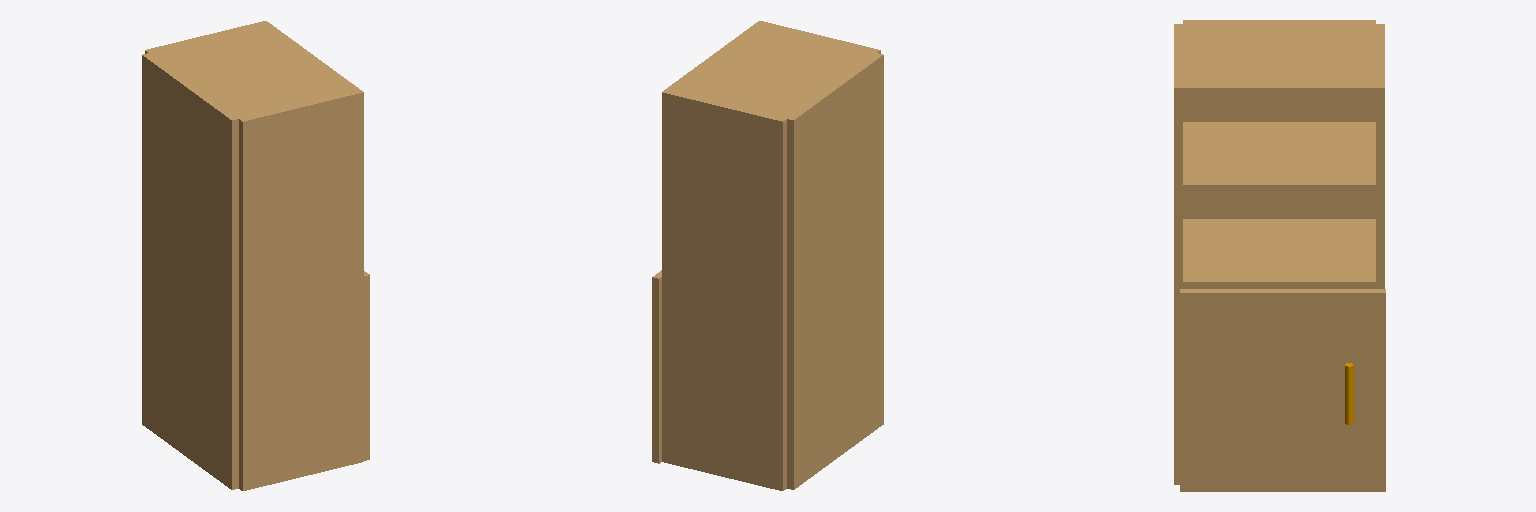
The robot description file, URDF, robot "cabinet_shelf":
<robot name="cabinet_shelf">

  <material name="Wood">
    <color rgba="0.827 0.675 0.463 1.0"/>
  </material>
  <material name="LightWood">
    <color rgba="0.992, 0.871, 0.682, 1.0"/>
  </material>
  <material name="Metal">
    <color rgba="0.718, 0.753, 0.749, 1.0"/>
  </material>

  <link name="cabinet_bottom_plate">
    <inertial>
      <mass value="20.0" />
      <origin xyz="0 0 -1.0" /> 
      <inertia  ixx="2" ixy="0.0"  ixz="0.0"  iyy="2"  iyz="0.0"  izz="2" />
    </inertial>
    <visual>
      <origin xyz="0 0 0.01" rpy="0 0 0" />
      <geometry>
        <box size="0.35 0.45 0.02"/>
      </geometry>
      <material name="Wood"/>
    </visual>
    <collision>
      <origin xyz="0 0 0.01" rpy="0 0 0" />
      <geometry>
        <box size="0.35 0.45 0.02"/>
      </geometry>
    </collision>
  </link>

  <link name="cabinet_middle_plate1">
    <inertial>
      <mass value="1.0" />
      <origin xyz="0 0 0.0" />
      <inertia  ixx="0.01" ixy="0.0"  ixz="0.0"  iyy="0.01"  iyz="0.0"  izz="0.01" />
    </inertial>
    <visual>
      <origin xyz="0 0 0.76" rpy="0 0 0" />
      <geometry>
        <box size="0.35 0.45 0.02"/>
      </geometry>
      <material name="Wood"/>
    </visual>
    <collision>
      <origin xyz="0 0 0.76" rpy="0 0 0" />
      <geometry>
        <box size="0.35 0.45 0.02"/>
      </geometry>
    </collision>
  </link>
  <link name="cabinet_middle_plate2">
    <inertial>
      <mass value="1.0" />
      <origin xyz="0 0 0.0" /> 
      <inertia  ixx="0.01" ixy="0.0"  ixz="0.0"  iyy="0.01"  iyz="0.0"  izz="0.01" />
    </inertial>
    <visual>
      <origin xyz="0 0 0.51" rpy="0 0 0" />
      <geometry>
        <box size="0.35 0.45 0.02"/>
      </geometry>
      <material name="Wood"/>
    </visual>
    <collision>
      <origin xyz="0 0 0.51" rpy="0 0 0" />
      <geometry>
        <box size="0.35 0.45 0.02"/>
      </geometry>
    </collision>
  </link>
  <link name="cabinet_top_plate">
    <inertial>
      <mass value="1.0" />
      <origin xyz="0 0 0.0" /> 
      <inertia  ixx="0.01" ixy="0.0"  ixz="0.0"  iyy="0.01"  iyz="0.0"  izz="0.01" />
    </inertial>
    <visual>
      <origin xyz="0 0 1.01" rpy="0 0 0" />
      <geometry>
        <box size="0.35 0.45 0.02"/>
      </geometry>
      <material name="Wood"/>
    </visual>
    <collision>
      <origin xyz="0 0 1.01" rpy="0 0 0" />
      <geometry>
        <box size="0.35 0.45 0.02"/>
      </geometry>
    </collision>
  </link>
  <link name="cabinet_left_plate">
    <inertial>
      <mass value="1.0" />
      <origin xyz="0 0 0.0" /> 
      <inertia  ixx="0.01" ixy="0.0"  ixz="0.0"  iyy="0.01"  iyz="0.0"  izz="0.01" />
    </inertial>
    <visual>
      <origin xyz="0 -0.235 0.51" rpy="0 0 0" />
      <geometry>
        <box size="0.35 0.02 1.02"/>
      </geometry>
      <material name="Wood"/>
    </visual>
    <collision>
      <origin xyz="0 -0.235 0.51" rpy="0 0 0" />
      <geometry>
        <box size="0.35 0.02 1.02"/>
      </geometry>
    </collision>
  </link>
  <link name="cabinet_right_plate">
    <inertial>
      <mass value="1.0" />
      <origin xyz="0 0 0.0" /> 
      <inertia  ixx="0.01" ixy="0.0"  ixz="0.0"  iyy="0.01"  iyz="0.0"  izz="0.01" />
    </inertial>
    <visual>
      <origin xyz="0 0.235 0.51" rpy="0 0 0" />
      <geometry>
        <box size="0.35 0.02 1.02"/>
      </geometry>
      <material name="Wood"/>
    </visual>
    <collision>
      <origin xyz="0 0.235 0.51" rpy="0 0 0" />
      <geometry>
        <box size="0.35 0.02 1.02"/>
      </geometry>
    </collision>
  </link>
  <link name="cabinet_back_plate">
    <inertial>
      <mass value="1.0" />
      <origin xyz="0 0 -5" /> 
      <inertia  ixx="0.01" ixy="0.0"  ixz="0.0"  iyy="0.01"  iyz="0.0"  izz="0.01" />
    </inertial>
    <visual>
      <origin xyz="-0.185 0 0.51" rpy="0 0 0" />
      <geometry>
        <box size="0.02 0.45 1.02"/>
      </geometry>
      <material name="Wood"/>
    </visual>
    <collision>
      <origin xyz="-0.21 0 0.51" rpy="0 0 0" />
      <geometry>
        <box size="0.02 0.45 1.02"/>
      </geometry>
    </collision>
  </link>

  <link name="cabinet_door_plate">
    <inertial>
      <mass value="1.0" />
      <origin xyz="0 0 0.0" />
      <inertia  ixx="0.01" ixy="0.0"  ixz="0.0"  iyy="0.01"  iyz="0.0"  izz="0.01" />
    </inertial>
    <visual>
      <origin xyz="0.01 0.245 0.25" rpy="0 0 0" />
      <geometry>
        <box size="0.02 0.48 0.51"/>
      </geometry>
      <material name="Wood"/>
    </visual>
    <collision>
      <origin xyz="0.235 0 0.26" rpy="0 0 0" />
      <geometry>
        <box size="0.02 0.49 0.51"/>
      </geometry>
    </collision>
  </link>
  <link name="cabinet_door_handle">
    <inertial>
      <mass value="0.1" />
      <origin xyz="0 0 0.0" />
      <inertia  ixx="0.01" ixy="0.0"  ixz="0.0"  iyy="0.01"  iyz="0.0"  izz="0.01" />
    </inertial>
    <visual>
      <origin xyz="0.03 0.4 0.25" rpy="0 0 0" />
      <geometry>
        <cylinder radius="0.01" length="0.15"/>
      </geometry>
      <material name="Metal"/>
    </visual>
    <collision>
      <origin xyz="0.03 0.4 0.25" rpy="0 0 0" />
      <geometry>
        <cylinder radius="0.01" length="0.15"/>
      </geometry>
    </collision>
  </link>


  <joint name="middle_plate1" type="fixed">
    <parent link="cabinet_bottom_plate"/>
    <child link="cabinet_middle_plate1"/>
    <origin xyz="0 0 0"/>
  </joint>
  <joint name="middle_plate2" type="fixed">
    <parent link="cabinet_bottom_plate"/>
    <child link="cabinet_middle_plate2"/>
    <origin xyz="0 0 0"/>
  </joint>

  <joint name="top_plate" type="fixed">
    <parent link="cabinet_bottom_plate"/>
    <child link="cabinet_top_plate"/>
    <origin xyz="0 0 0"/>
  </joint>
  <joint name="left_plate" type="fixed">
    <parent link="cabinet_bottom_plate"/>
    <child link="cabinet_left_plate"/>
    <origin xyz="0 0 0"/>
  </joint>
  <joint name="right_plate" type="fixed">
    <parent link="cabinet_bottom_plate"/>
    <child link="cabinet_right_plate"/>
    <origin xyz="0 0 0"/>
  </joint>
  <joint name="back_plate" type="fixed">
    <parent link="cabinet_bottom_plate"/>
    <child link="cabinet_back_plate"/>
    <origin xyz="0 0 0"/>
  </joint>

  <joint name="cabinet_door_hinge" type="revolute">
    <parent link="cabinet_bottom_plate"/>
    <child link="cabinet_door_plate"/>
    <origin rpy="0 0 0" xyz="0.180 -0.237 0"/>
    <axis xyz="0 0 1"/>
    <limit upper="0" lower="-1.6" velocity="100" effort="100"/>
  </joint>

  <joint name="cabinet_door_handle" type="fixed">
    <parent link="cabinet_door_plate"/>
    <child link="cabinet_door_handle"/>
    <origin xyz="0 0 0"/>
  </joint>




  <gazebo reference="cabinet_bottom_plate">
    <mu1>100.0</mu1>
    <mu2>100.0</mu2>
  </gazebo>
  <gazebo>
    <static>true</static>
  </gazebo>
</robot>

--- What the picture shows (computed from the rendered views, not written in the file) ---
The picture shows the robot from 3 angles, left to right: view 1: azimuth 30°, elevation 25°; view 2: azimuth 150°, elevation 25°; view 3: azimuth 270°, elevation 25°; orthographic projection.
Robot: cabinet_shelf — 9 links, 8 joints (1 revolute, 7 fixed); root link cabinet_bottom_plate; default pose: all joints at 0.
Visible links, largest first — view 1: cabinet_left_plate, cabinet_back_plate, cabinet_top_plate, cabinet_door_plate; view 2: cabinet_right_plate, cabinet_back_plate, cabinet_top_plate, cabinet_door_plate; view 3: cabinet_door_plate, cabinet_middle_plate1, cabinet_top_plate, cabinet_middle_plate2, cabinet_back_plate, cabinet_left_plate, cabinet_right_plate, cabinet_door_handle.
Boxes of the visible links, <box> form: cabinet_left_plate: <box>239,89,363,490</box>; cabinet_back_plate: <box>142,53,238,489</box>; cabinet_top_plate: <box>150,24,358,118</box>; cabinet_door_plate: <box>364,271,369,460</box>; cabinet_right_plate: <box>662,89,786,490</box>; cabinet_back_plate: <box>787,53,883,489</box>; cabinet_top_plate: <box>666,23,875,118</box>; cabinet_door_plate: <box>652,270,661,463</box>; cabinet_door_plate: <box>1180,289,1385,491</box>; cabinet_middle_plate1: <box>1183,122,1375,192</box>; cabinet_top_plate: <box>1183,24,1375,94</box>; cabinet_middle_plate2: <box>1183,219,1375,288</box>; cabinet_back_plate: <box>1183,20,1375,218</box>; cabinet_left_plate: <box>1174,24,1182,484</box>; cabinet_right_plate: <box>1376,24,1384,288</box>; cabinet_door_handle: <box>1345,363,1353,424</box>.
Bounding box of the posed robot: 0.415 × 0.493 × 1.02 m (x, y, z).
Geometry: primitives only (box / cylinder / sphere), no mesh files.
